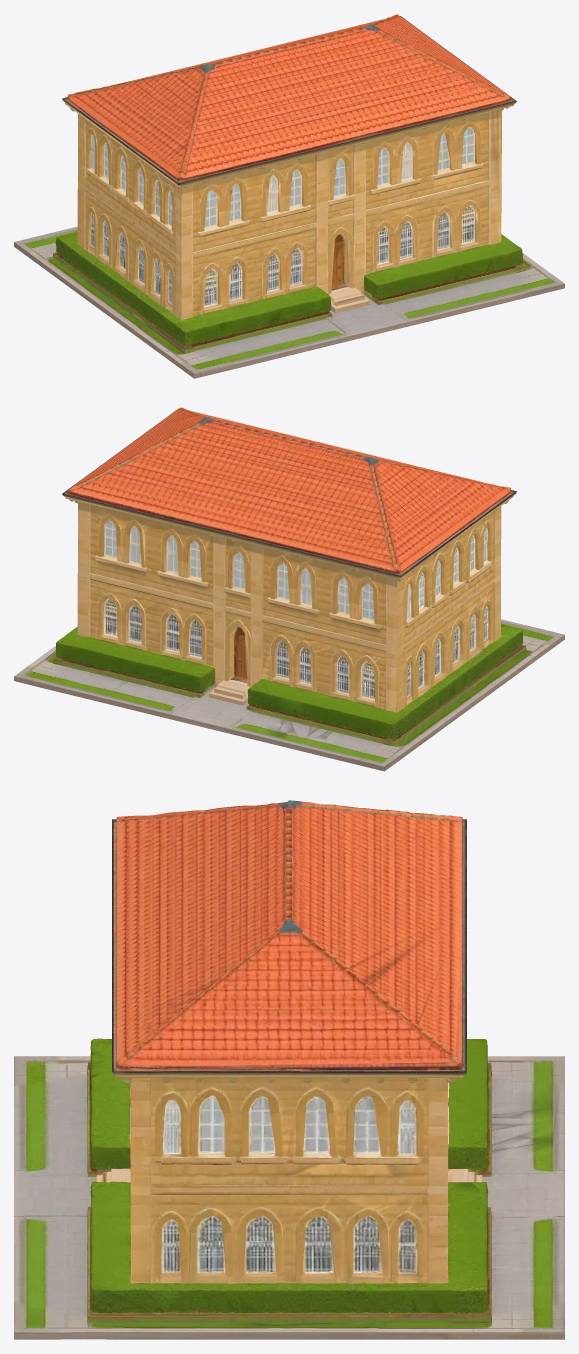
The model's file is lau-sage.glb.
The picture shows the model from 3 angles, top to bottom: view 1: azimuth 30°, elevation 25°; view 2: azimuth 150°, elevation 25°; view 3: azimuth 270°, elevation 25°; orthographic projection. The views are drawn at different scales.
Parts seen in each view (by area): view 1: mesh_node; view 2: mesh_node; view 3: mesh_node.
Part boxes in pixels (left/top/right/bottom): mesh_node: left=14, top=14, right=564, bottom=378; mesh_node: left=14, top=407, right=564, bottom=771; mesh_node: left=14, top=800, right=564, bottom=1339.
Bounding box in the file's own units: 1.9 × 1.1 × 1.6.
Materials: 1 (1 with a texture image).
